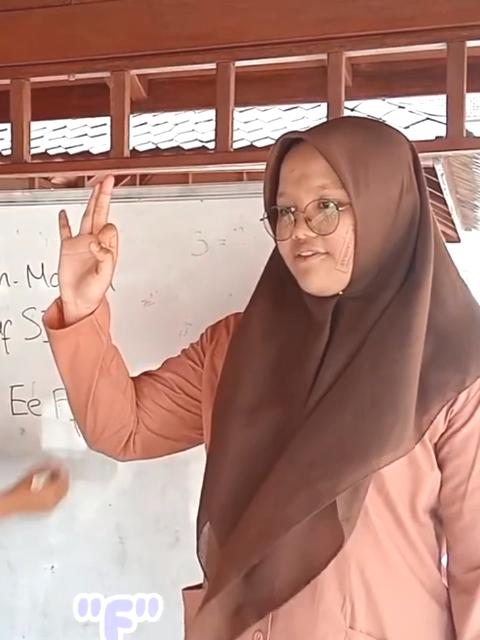F: (50, 170, 118, 312)
